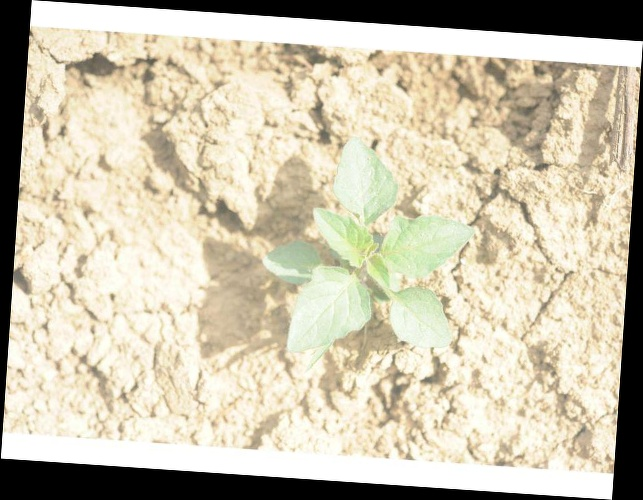nightshade: (264, 140, 473, 358)
